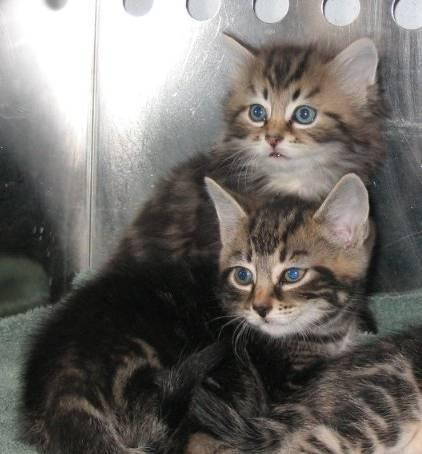cat: (32, 38, 388, 453)
